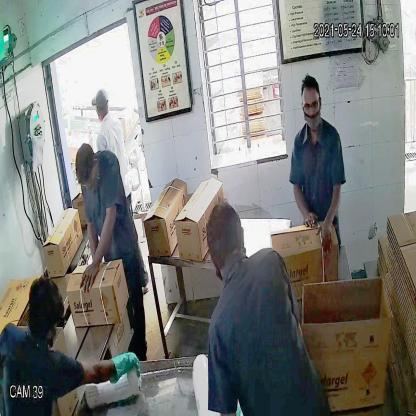goggles: (300, 96, 322, 115)
